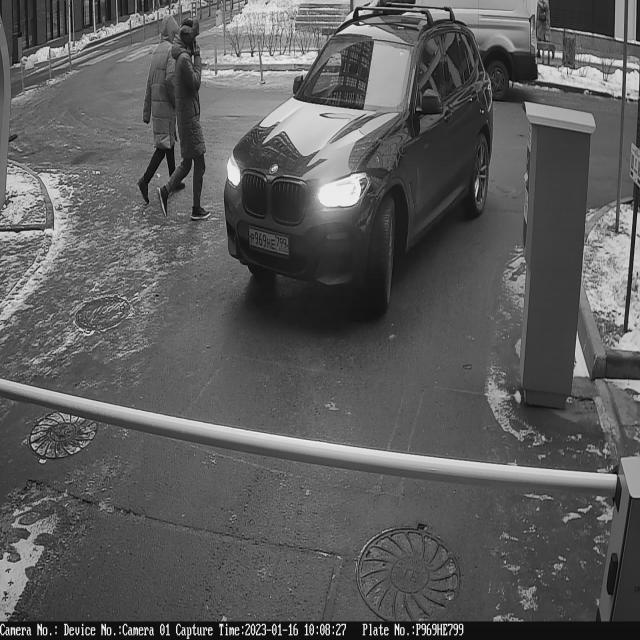car-plate-numbers: (247, 224, 292, 260)
